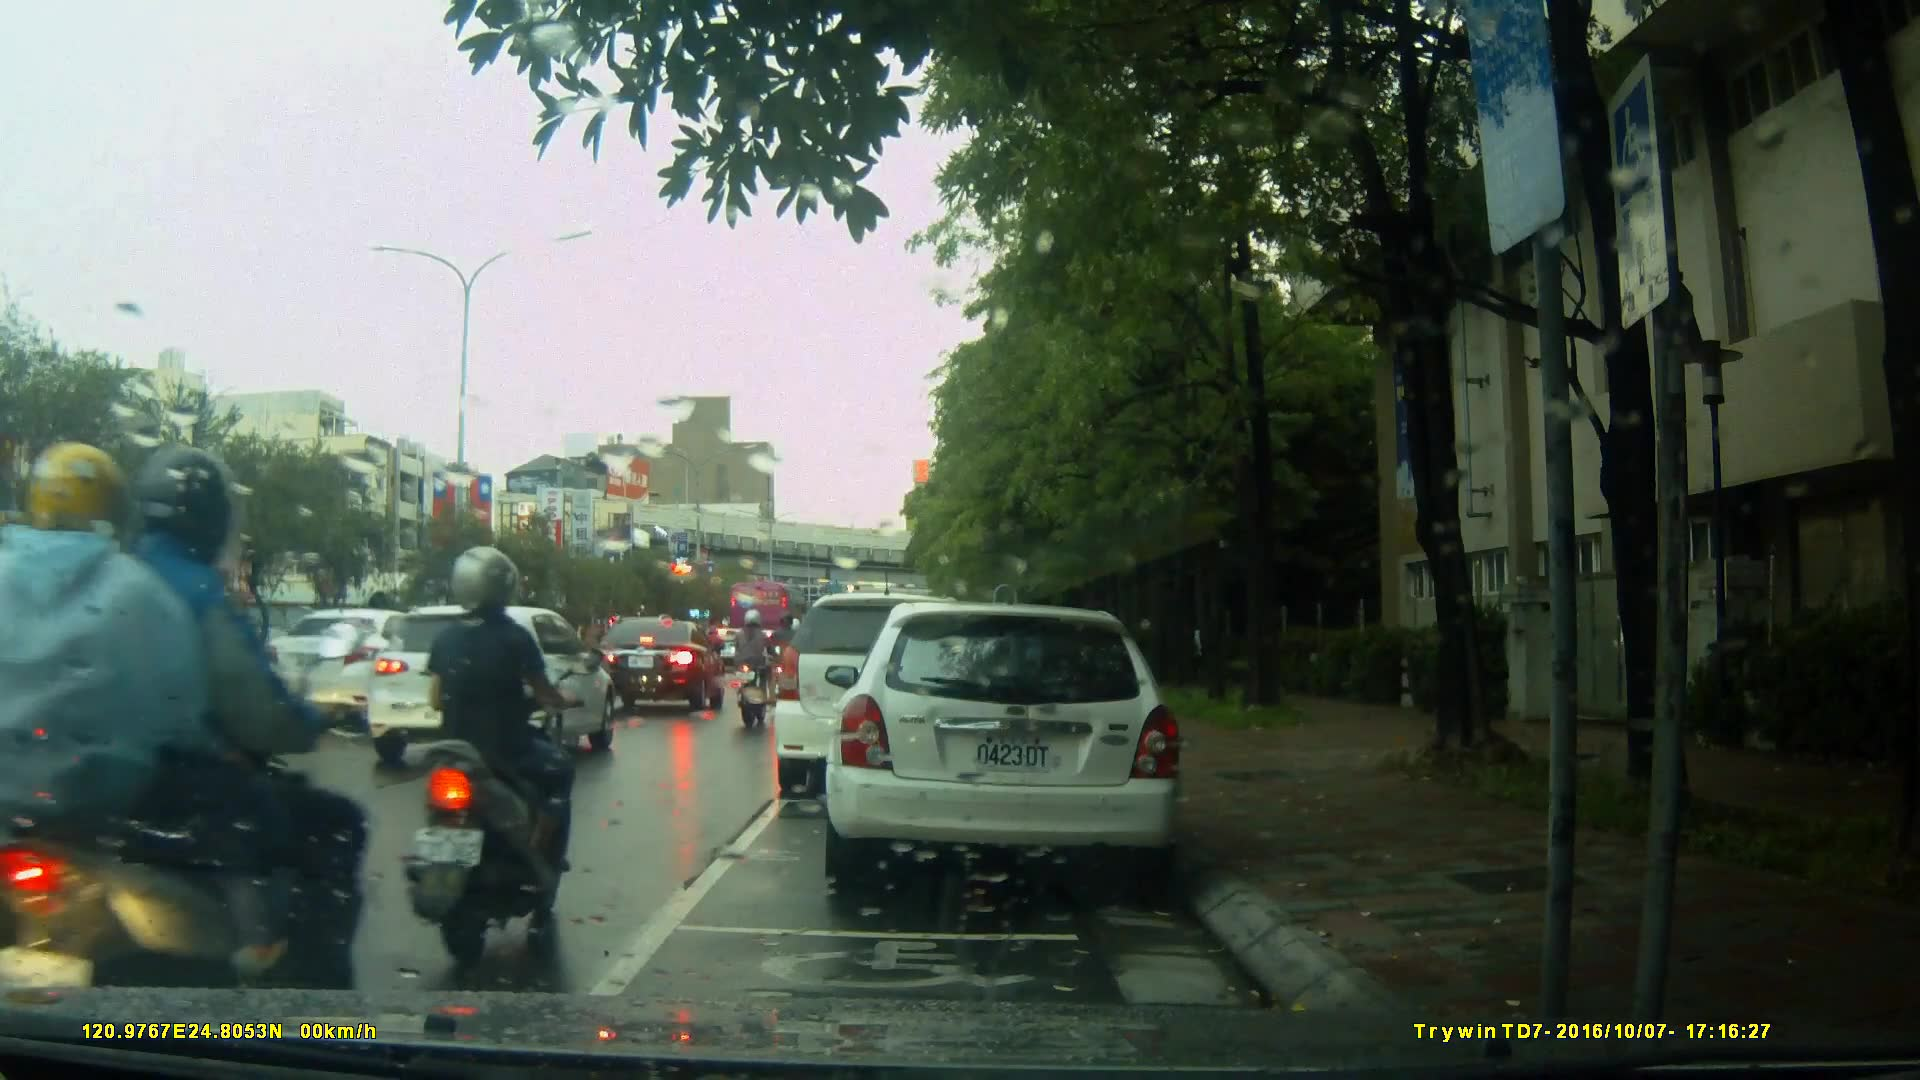rider: (1, 443, 356, 1044), (402, 549, 582, 955), (727, 610, 784, 736)
vehicle: (835, 594, 1194, 898), (776, 590, 1026, 784), (367, 603, 619, 767), (586, 615, 728, 715), (729, 581, 810, 651)
